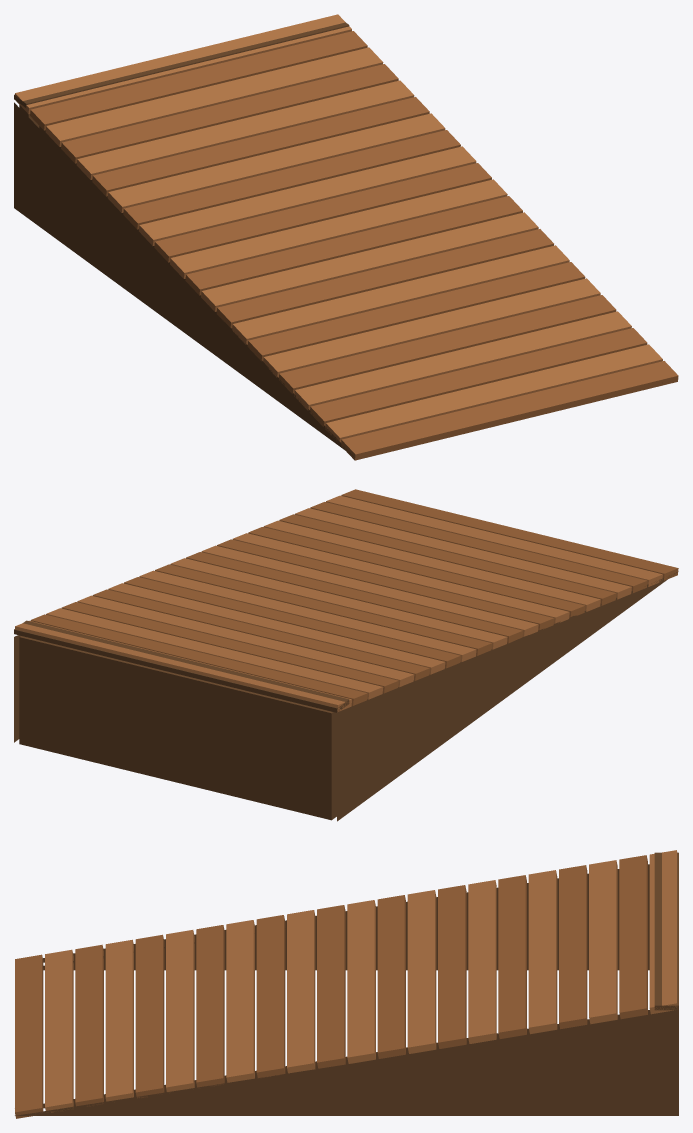
File: wooden-ramp.glb
3 renders of one model, top to bottom at view 1: azimuth 30°, elevation 25°; view 2: azimuth 150°, elevation 25°; view 3: azimuth 270°, elevation 25°, orthographic. The views are drawn at different scales.
Parts seen in each view (by area): view 1: wooden-ramp; view 2: wooden-ramp; view 3: wooden-ramp.
Boxes of the visible parts, x1,y1,x2,y2 form: wooden-ramp: (14,14,678,460); wooden-ramp: (14,489,678,821); wooden-ramp: (15,850,678,1118).
Size of the model in its own units: 6 by 2.11 by 11.
